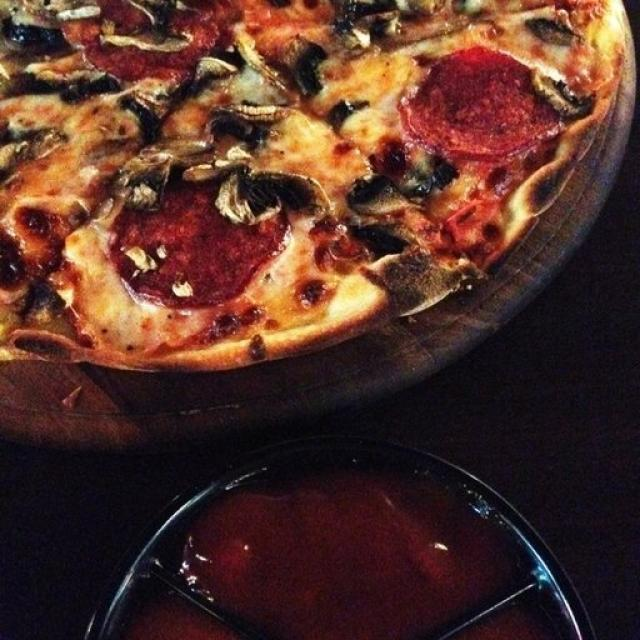Mushrooms: (142, 153, 322, 217), (0, 126, 67, 168), (534, 69, 591, 117), (334, 1, 394, 44), (331, 180, 415, 210), (0, 17, 67, 52), (118, 88, 167, 134), (285, 42, 324, 98), (387, 158, 449, 192), (213, 108, 281, 138), (12, 72, 122, 90), (526, 20, 580, 46)
Pepperoni: (413, 48, 557, 150), (138, 186, 268, 294), (82, 0, 217, 63)
